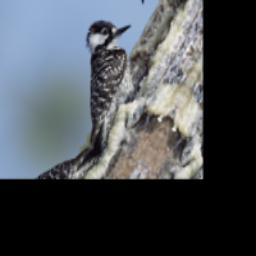Woodpecker: (42, 0, 181, 164)
